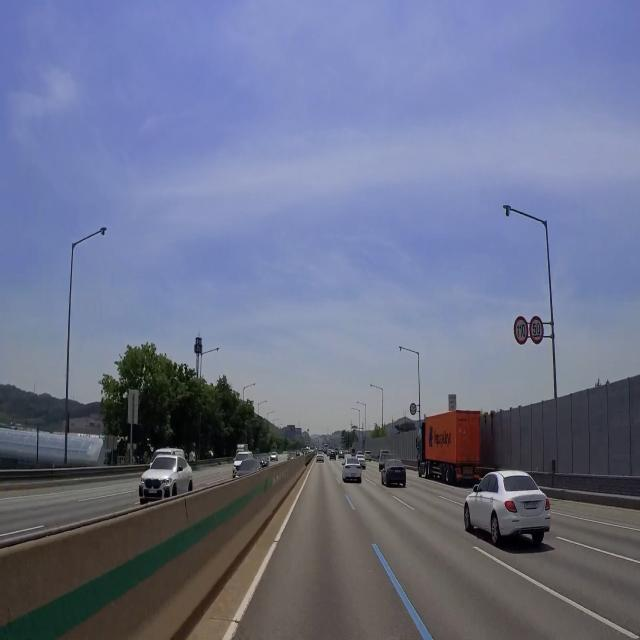car: (520, 499, 545, 511), (145, 486, 163, 497)
